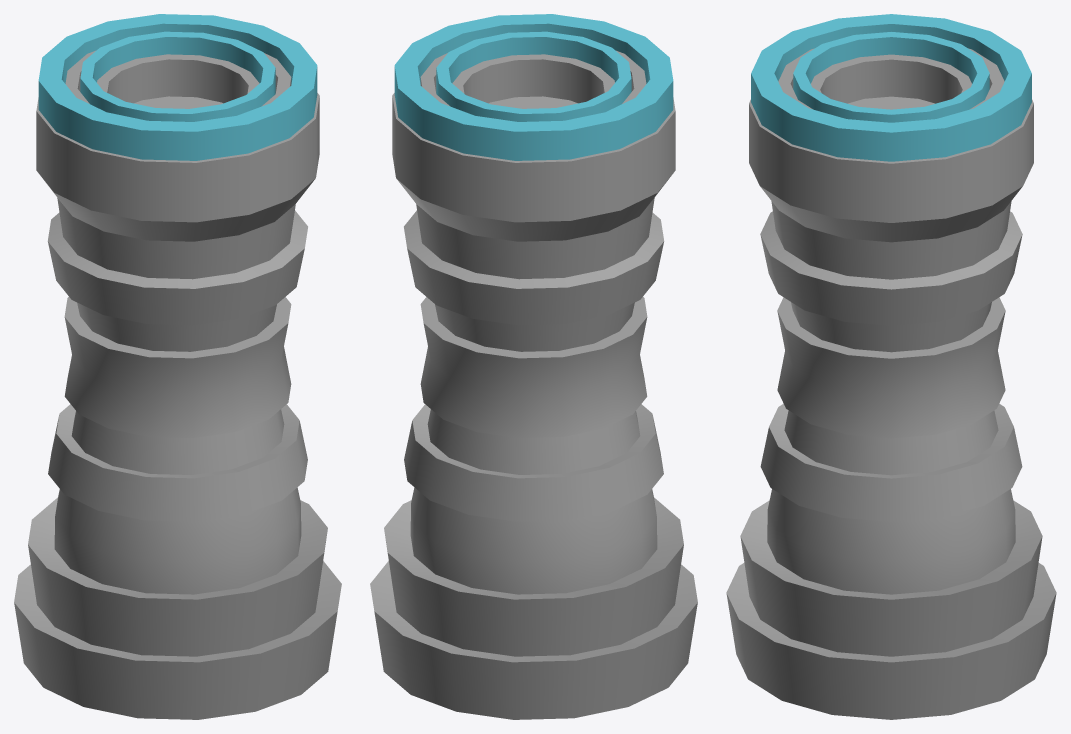
File: Still_Checkpoint.fbx
3 views of the same model, side by side, from view 1: azimuth 30°, elevation 25°; view 2: azimuth 150°, elevation 25°; view 3: azimuth 270°, elevation 25° (orthographic).
Parts seen in each view (by area): view 1: Checkpoint, Large_Ring, Small_Ring; view 2: Checkpoint, Large_Ring, Small_Ring; view 3: Checkpoint, Large_Ring, Small_Ring.
Boxes of the visible parts, bbox=[...] form: Checkpoint: bbox=[14, 50, 341, 719]; Large_Ring: bbox=[38, 14, 317, 160]; Small_Ring: bbox=[80, 31, 275, 121]; Checkpoint: bbox=[370, 50, 697, 719]; Large_Ring: bbox=[394, 14, 673, 160]; Small_Ring: bbox=[436, 31, 631, 121]; Checkpoint: bbox=[726, 48, 1056, 719]; Large_Ring: bbox=[751, 14, 1031, 161]; Small_Ring: bbox=[793, 32, 989, 122].
Bounding box in the file's own units: 3.47 × 6.74 × 3.47.
